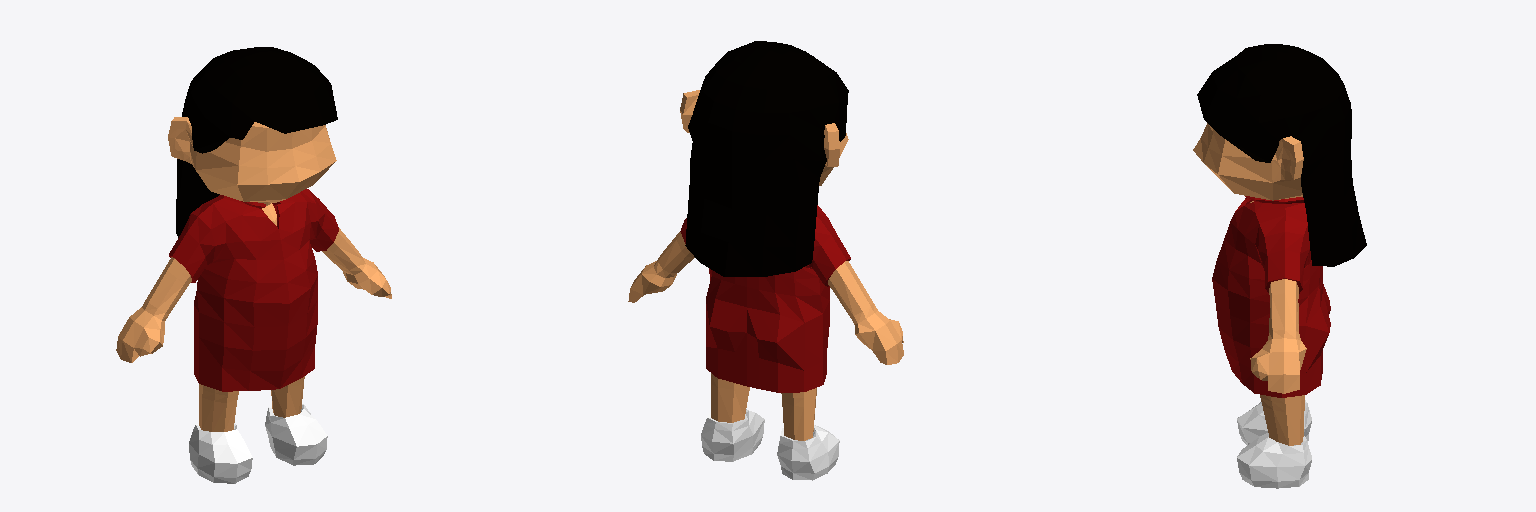
File: Player_G.obj
3 views of the same model, side by side, from view 1: azimuth 30°, elevation 25°; view 2: azimuth 150°, elevation 25°; view 3: azimuth 270°, elevation 25° (orthographic).
Parts seen in each view (by area): view 1: Player_G; view 2: Player_G; view 3: Player_G.
Boxes of the visible parts, <box> form: Player_G: <box>116,47,391,483</box>; Player_G: <box>628,41,903,480</box>; Player_G: <box>1193,44,1366,488</box>.
Bounding box in the file's own units: 3.88 × 5.71 × 2.21.